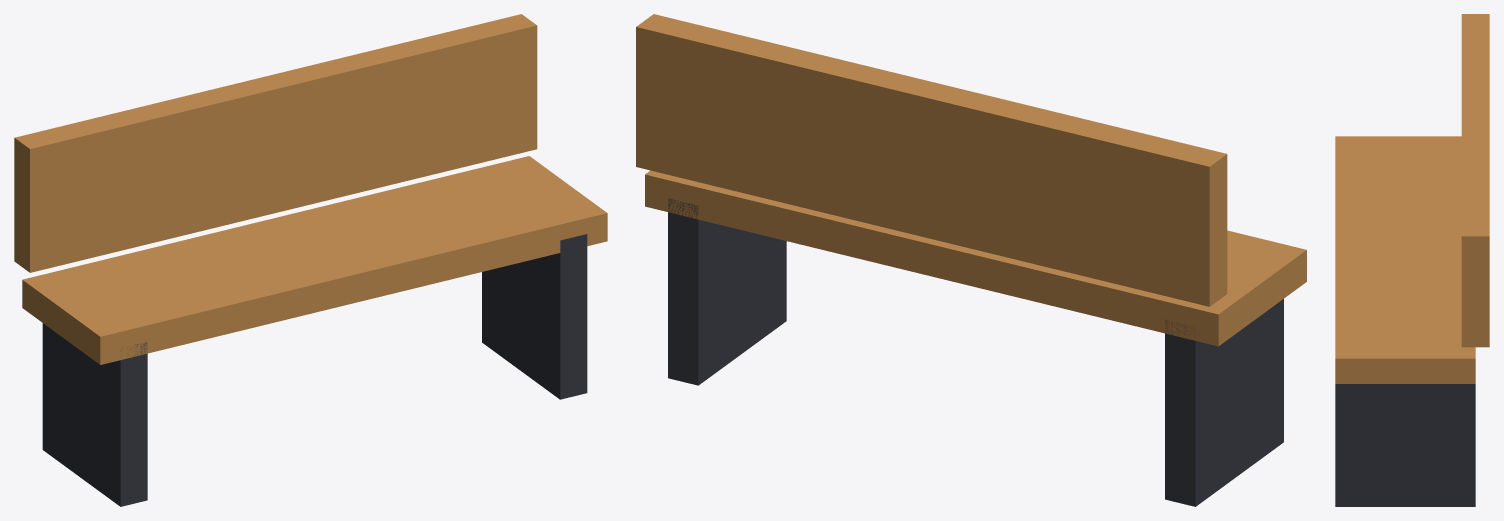
The model's file is bench.glb.
The picture shows the model from 3 angles, left to right: view 1: azimuth 30°, elevation 25°; view 2: azimuth 150°, elevation 25°; view 3: azimuth 270°, elevation 25°; orthographic projection. The views are drawn at different scales.
Visible parts, largest first — view 1: bench; view 2: bench; view 3: bench.
Boxes of the visible parts, left/top/right/bottom form: bench: left=14, top=14, right=607, bottom=506; bench: left=636, top=14, right=1306, bottom=506; bench: left=1335, top=14, right=1489, bottom=506.
Size of the model in its own units: 1.5 by 0.88 by 0.44.
